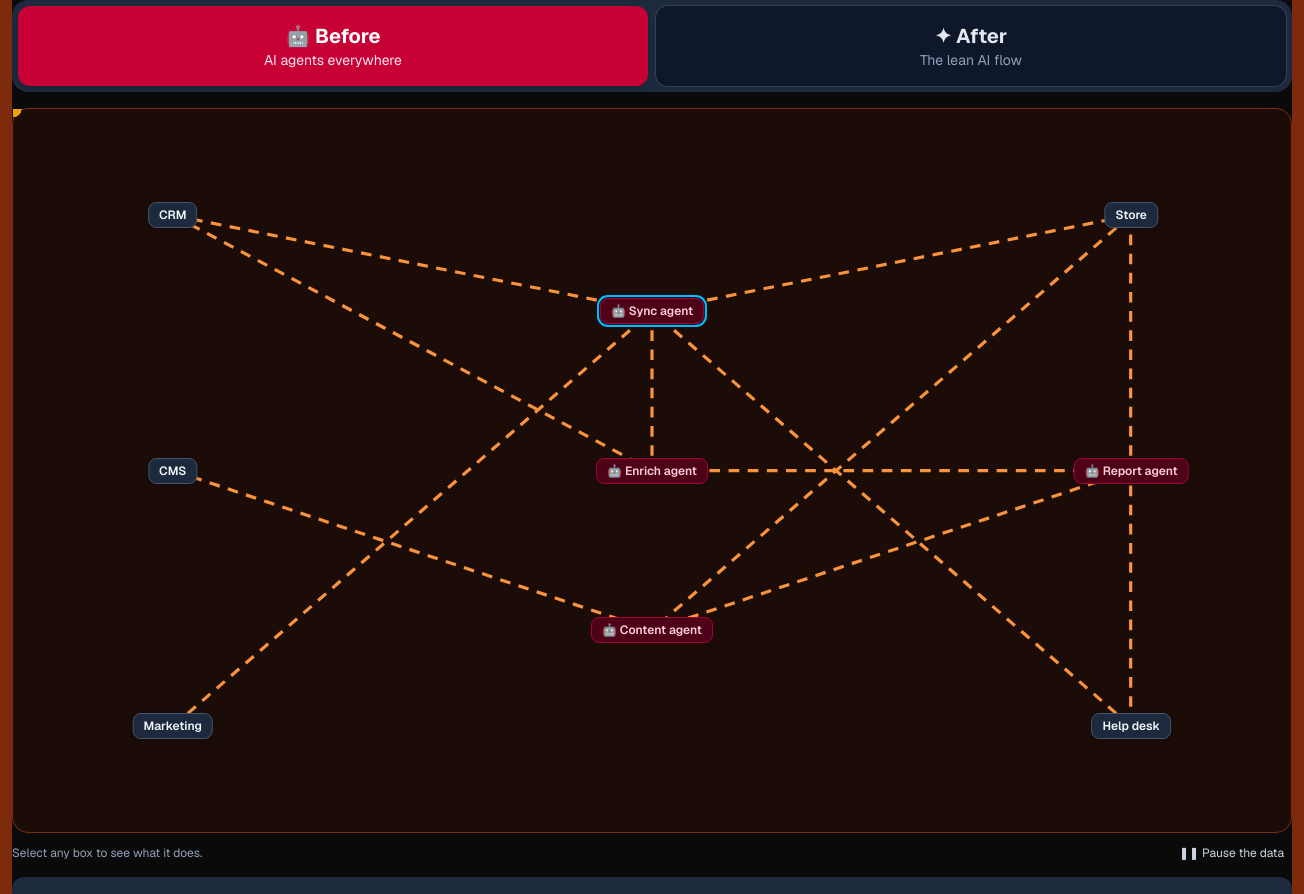
Scenario: AI cost case page › lets the moving data be paused
What coordinates should you click on to do the following:
click the button "❚❚ Pause the data"
I would click on:
 (1231, 853)
Its box is [1171,841,1292,865].
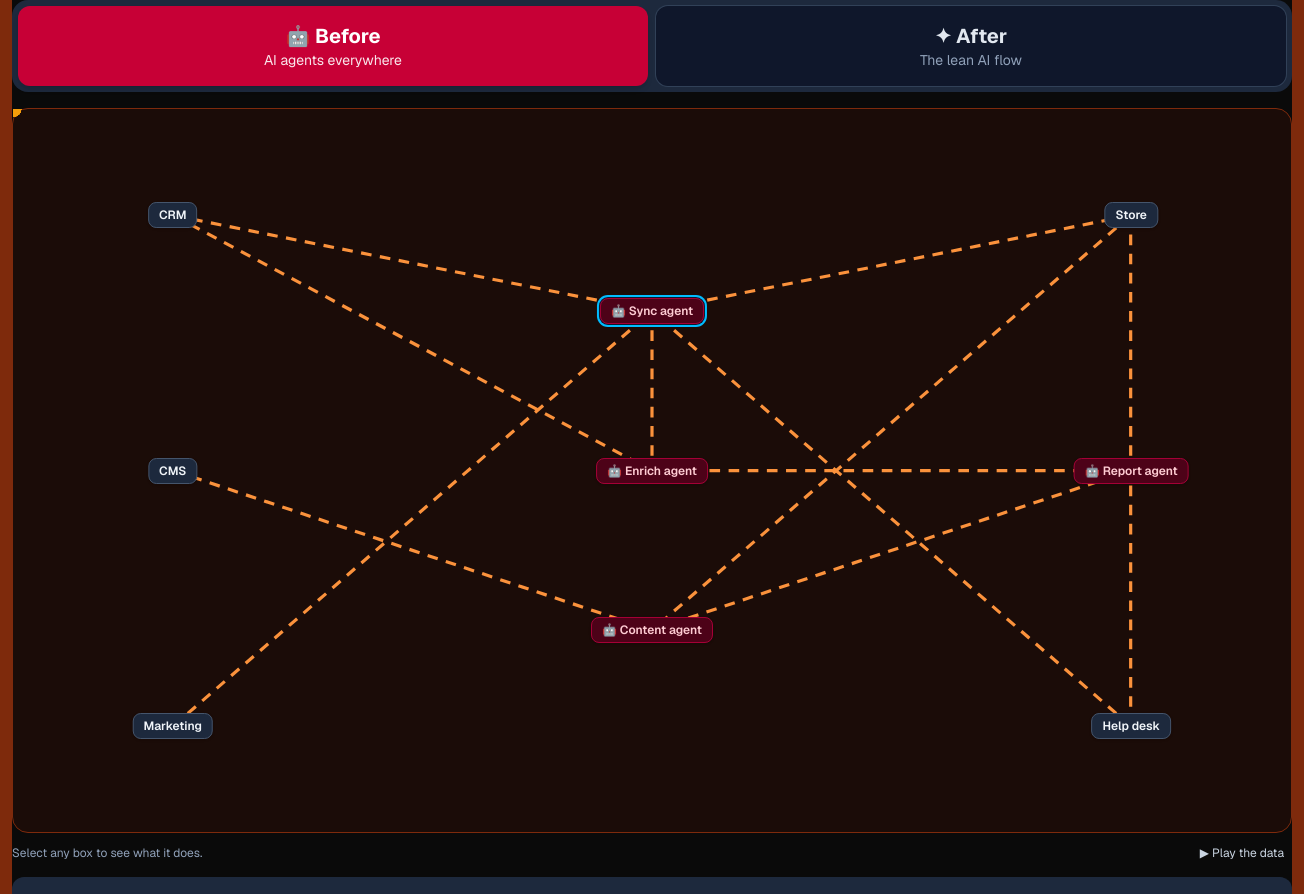
Result: the button "▶ Play the data" is shown at [1192,841,1292,865]
